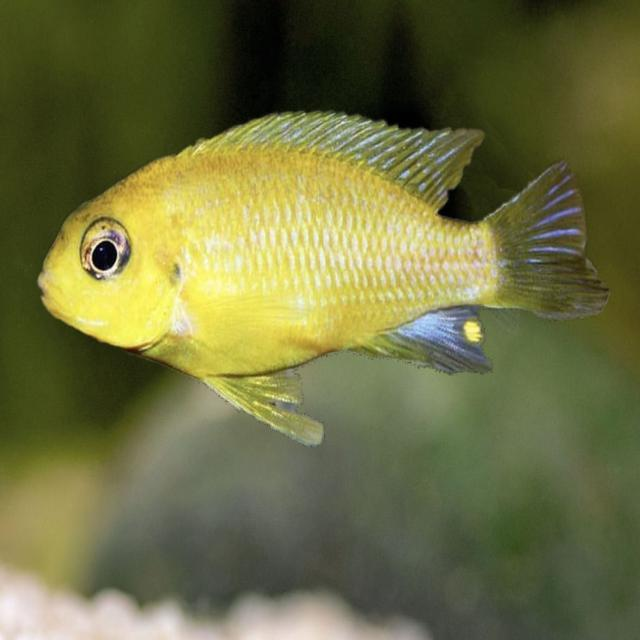YellowCichlid: (33, 94, 622, 458)
